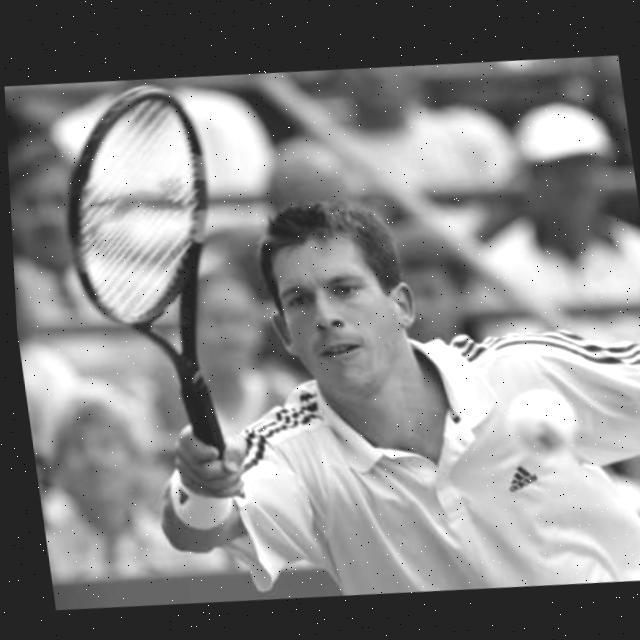face: (263, 222, 434, 382)
